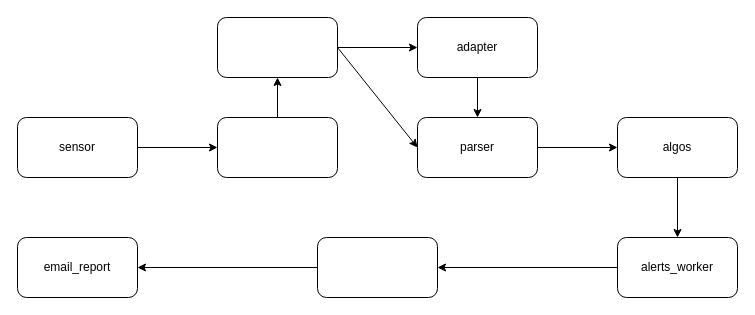
Image size: 755x315. Some labels were removed from this diagram. The shapes that lost their labels are listed below. From the top down, each one's centre as x and y in pixels, then its label:
At pixel 277 47: "xml_parser".
At pixel 277 147: "listen log".
At pixel 377 267: "BNWEngine".
